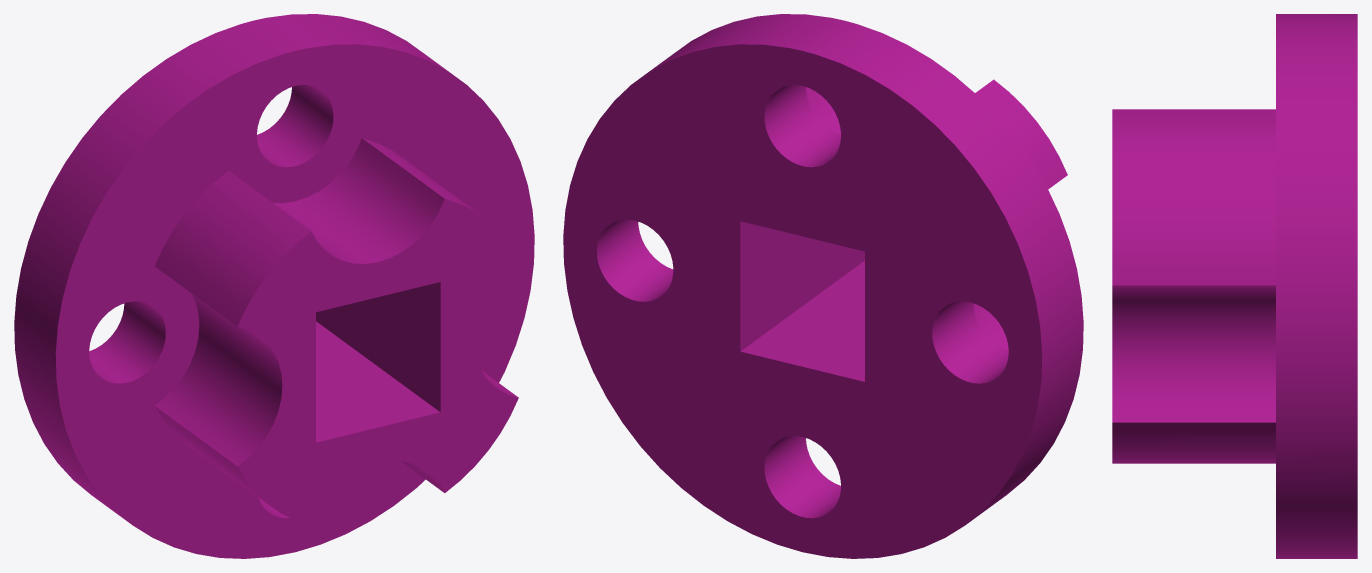
File: wal_naped.obj
3 views of the same model, side by side, from view 1: azimuth 30°, elevation 25°; view 2: azimuth 150°, elevation 25°; view 3: azimuth 270°, elevation 25° (orthographic).
Parts seen in each view (by area): view 1: wal_naped; view 2: wal_naped; view 3: wal_naped.
Boxes of the visible parts, x1,y1,x2,y2 form: wal_naped: (14,14,534,558); wal_naped: (563,14,1083,558); wal_naped: (1112,14,1357,558).
Size of the model in its own units: 19.99 by 20 by 9.
